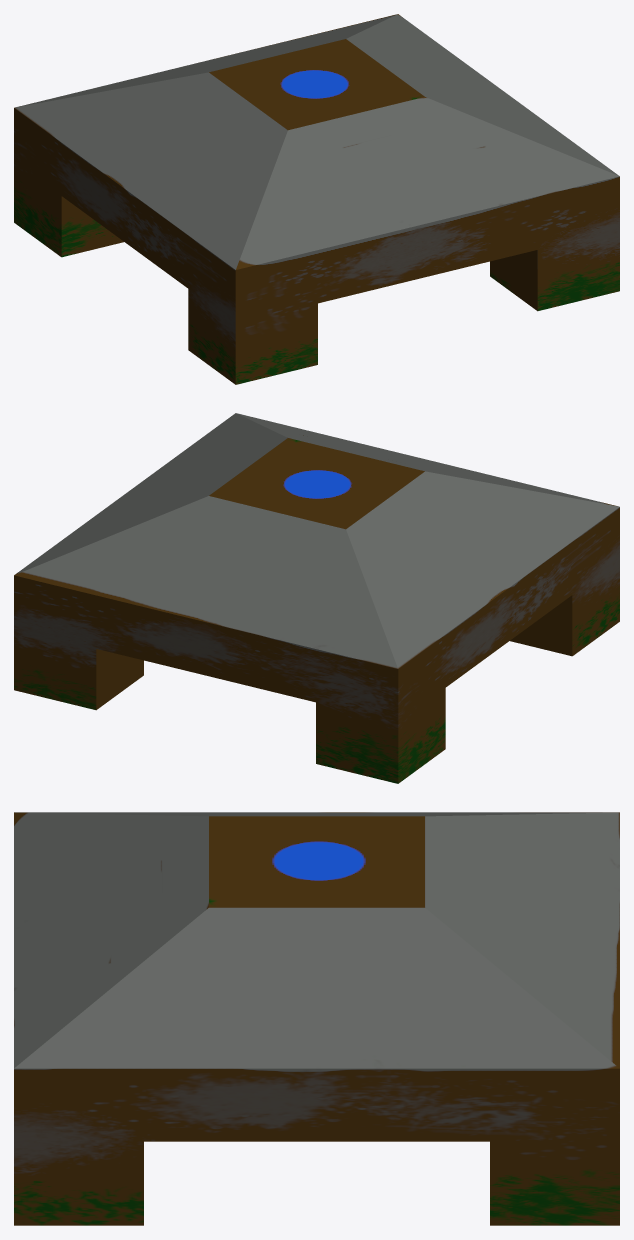
File: station.glb
3 views of the same model, one above another, from view 1: azimuth 30°, elevation 25°; view 2: azimuth 150°, elevation 25°; view 3: azimuth 270°, elevation 25° (orthographic). The views are drawn at different scales.
Visible parts, largest first — view 1: Cube; view 2: Cube; view 3: Cube.
Part boxes in pixels (x1,y1,x2,y2): Cube: [14, 14, 619, 384]; Cube: [14, 413, 619, 783]; Cube: [14, 812, 619, 1225].
Bounding box in the file's own units: 0.56 × 0.24 × 0.56.
1 material, 1 textured.
